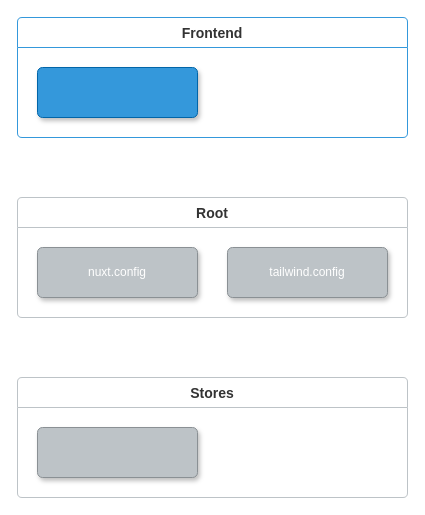
This 425x515 diagram has some shape labels left out. The shapes that lost their labels are listed below. From the top down, each one's centre as x and y in pixels, then its label:
At (x=118, y=93): "app.config".
At (x=118, y=453): "emailStore".
